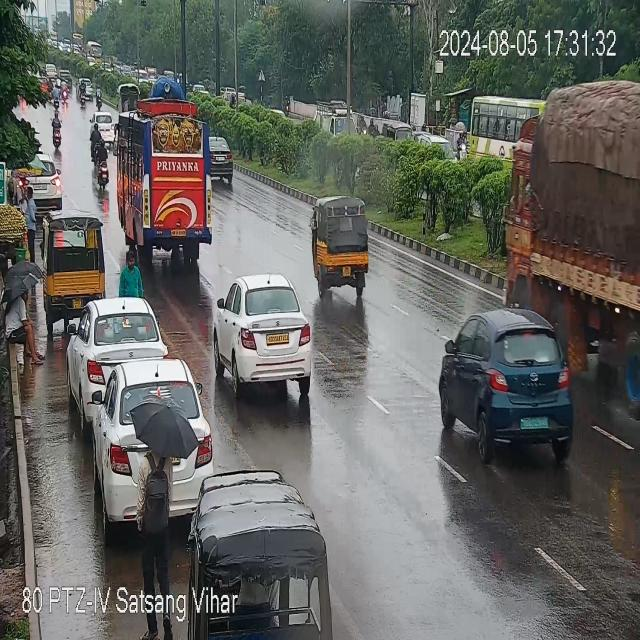2-wheelers: (89, 123, 110, 188), (52, 106, 61, 149), (79, 80, 87, 106), (61, 80, 69, 102), (96, 84, 102, 109)
auto: (42, 212, 109, 312), (312, 191, 378, 292)
bus: (116, 103, 211, 260), (466, 88, 536, 166)
car: (434, 304, 577, 461), (217, 272, 313, 394), (98, 365, 210, 458), (69, 297, 162, 403), (34, 154, 58, 203), (212, 140, 235, 188)
pedestrian: (138, 409, 172, 585), (7, 283, 46, 367), (119, 253, 143, 300), (25, 184, 38, 258)
truck: (505, 65, 639, 322)
